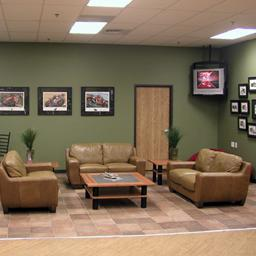Puerta: (135, 88, 171, 152)
